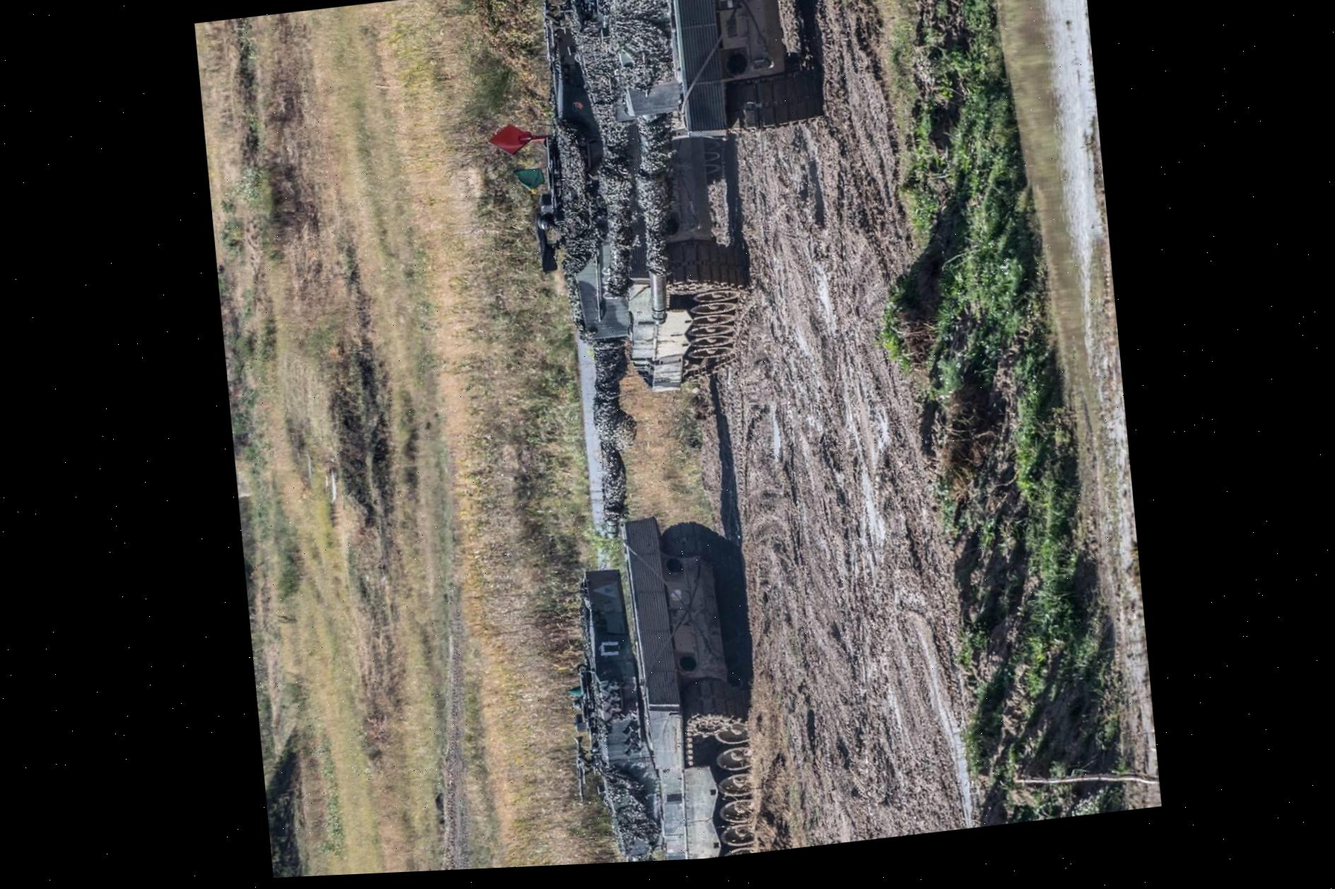tank: (515, 7, 770, 549), (569, 0, 848, 335), (547, 502, 769, 865)
